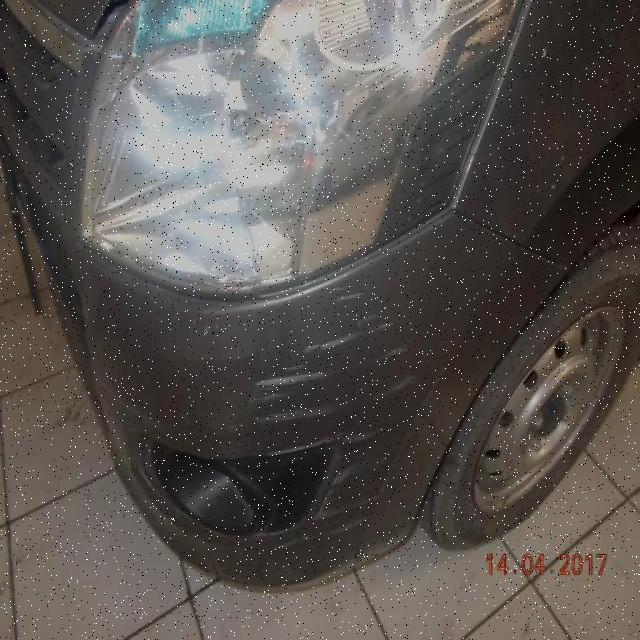car damage: (256, 365, 446, 549), (246, 282, 421, 419)
